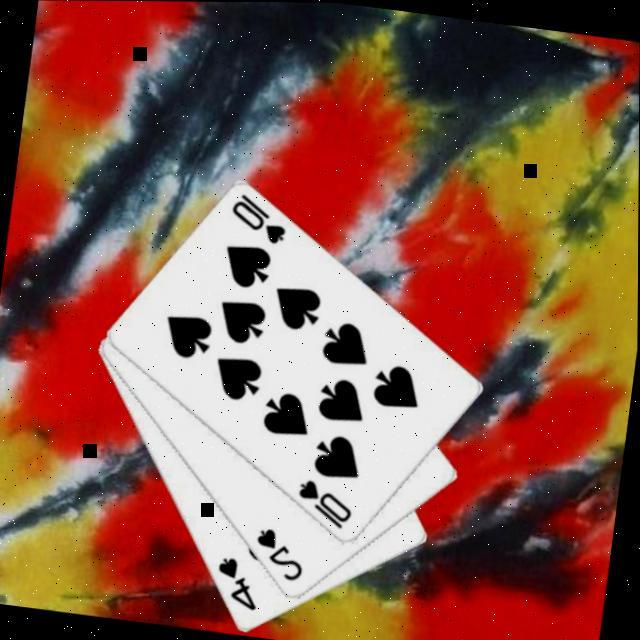10S: (289, 473, 357, 532), (222, 188, 290, 247)
2S: (247, 522, 309, 584)
4S: (208, 552, 262, 612)
